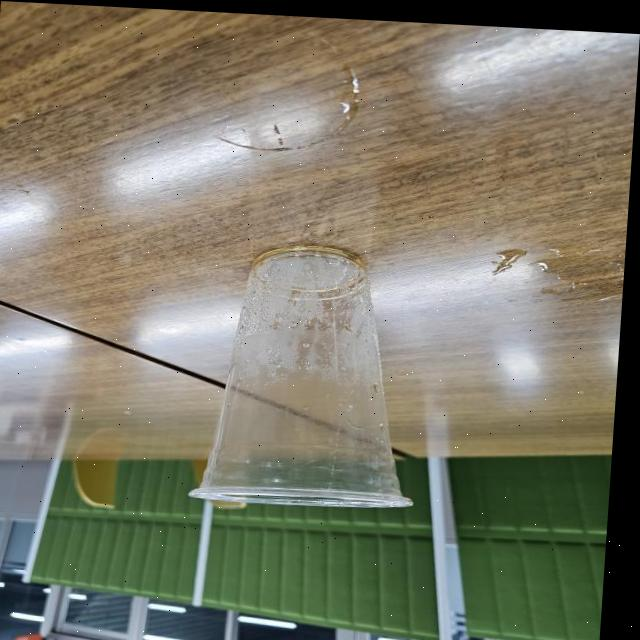cup: (181, 232, 434, 515)
